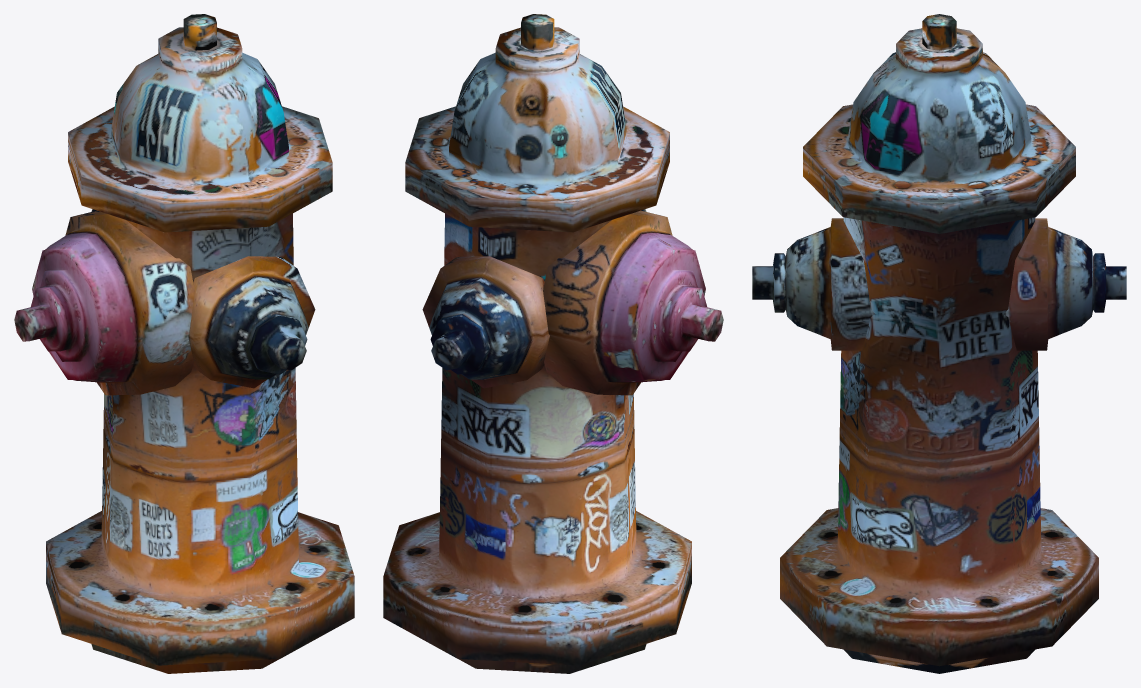
The model's file is Hydrant.glb.
3 views of the same model, side by side, from view 1: azimuth 30°, elevation 25°; view 2: azimuth 150°, elevation 25°; view 3: azimuth 270°, elevation 25° (orthographic).
Visible parts, largest first — view 1: Hydrant_low; view 2: Hydrant_low; view 3: Hydrant_low.
Boxes of the visible parts, x1,y1,x2,y2 form: Hydrant_low: (14,14,354,673); Hydrant_low: (383,14,723,673); Hydrant_low: (752,14,1126,673).
Bounding box in the file's own units: 0.4545 × 0.8282 × 0.4682.
Materials: 1 (1 with a texture image).
